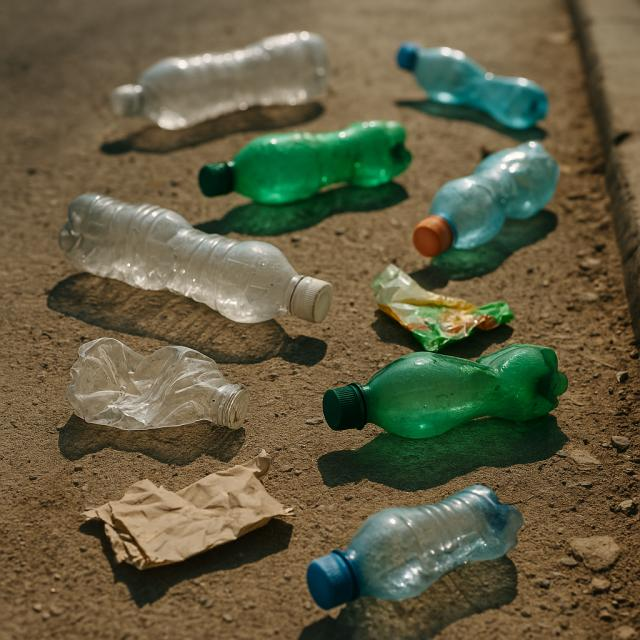paper: (86, 471, 292, 574)
plastic: (63, 192, 336, 340), (308, 483, 522, 612), (322, 339, 568, 438), (101, 33, 329, 126), (194, 120, 419, 194), (394, 30, 550, 130)
